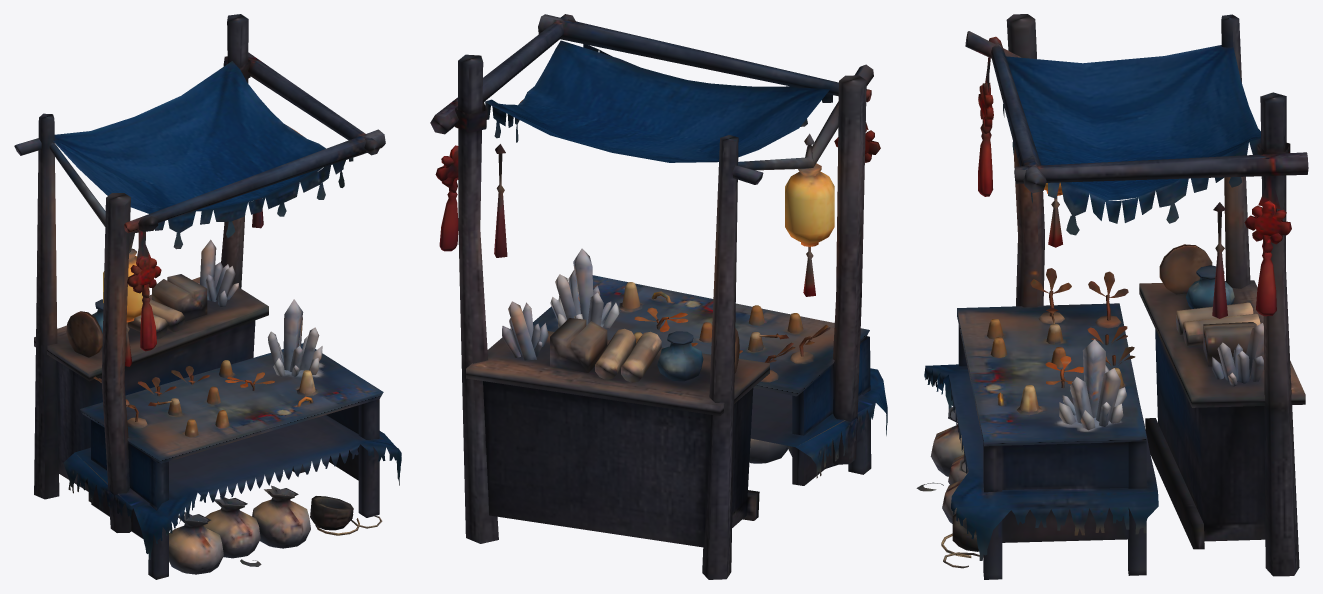
3 renders of one model, left to right at view 1: azimuth 30°, elevation 25°; view 2: azimuth 150°, elevation 25°; view 3: azimuth 270°, elevation 25°, orthographic. The views are drawn at different scales.
Parts seen in each view (by area): view 1: tripo_node_ce6a87ce-73b1-4047-bcdd-ef2d992da65c; view 2: tripo_node_ce6a87ce-73b1-4047-bcdd-ef2d992da65c; view 3: tripo_node_ce6a87ce-73b1-4047-bcdd-ef2d992da65c.
Part boxes in pixels (left/top/right/bottom): tripo_node_ce6a87ce-73b1-4047-bcdd-ef2d992da65c: left=14, top=14, right=401, bottom=579; tripo_node_ce6a87ce-73b1-4047-bcdd-ef2d992da65c: left=430, top=14, right=887, bottom=579; tripo_node_ce6a87ce-73b1-4047-bcdd-ef2d992da65c: left=916, top=14, right=1308, bottom=579.
Size of the model in its own units: 0.2417 by 0.3437 by 0.2544.
Materials: 1 (1 with a texture image).
